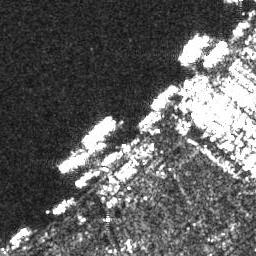ship: (179, 31, 201, 62), (86, 113, 113, 134), (50, 197, 75, 214), (7, 226, 30, 243), (73, 169, 93, 187), (135, 111, 154, 129)
